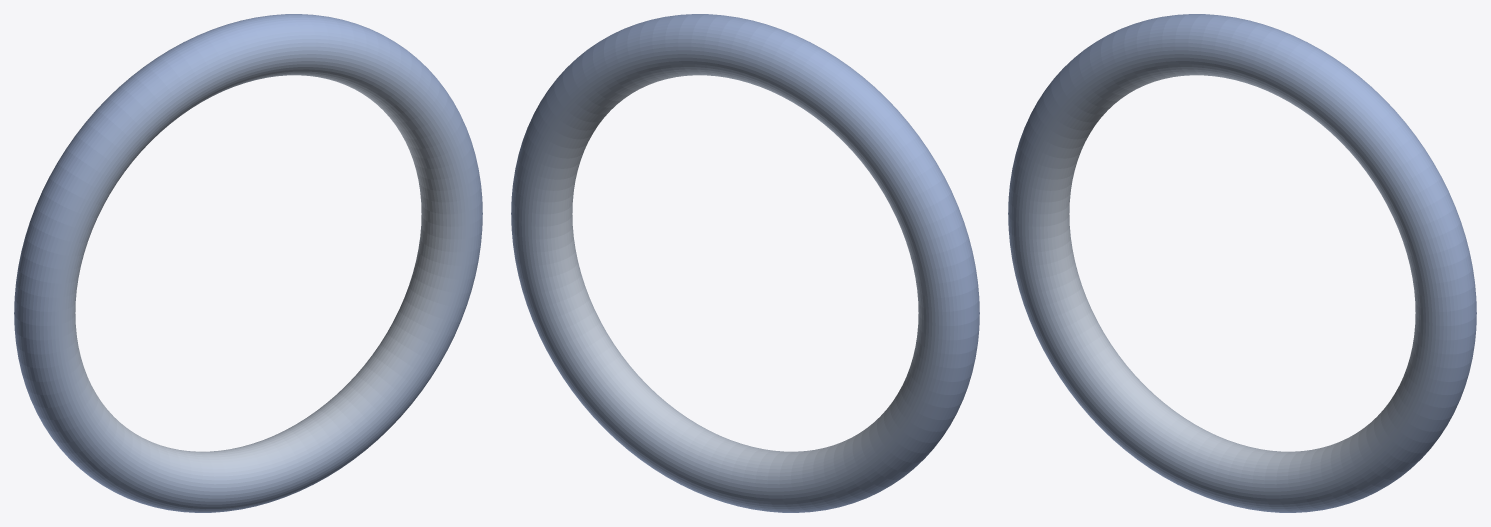
3 views of the same model, side by side, from view 1: azimuth 30°, elevation 25°; view 2: azimuth 150°, elevation 25°; view 3: azimuth 330°, elevation 25° (orthographic).
Visible parts, largest first — view 1: world; view 2: world; view 3: world.
Boxes of the visible parts, box(x1,y1,x2,y2) form: world: box(14, 14, 482, 512); world: box(511, 14, 979, 512); world: box(1008, 14, 1476, 512).
Size of the model in its own units: 17.33 by 17.33 by 2.
